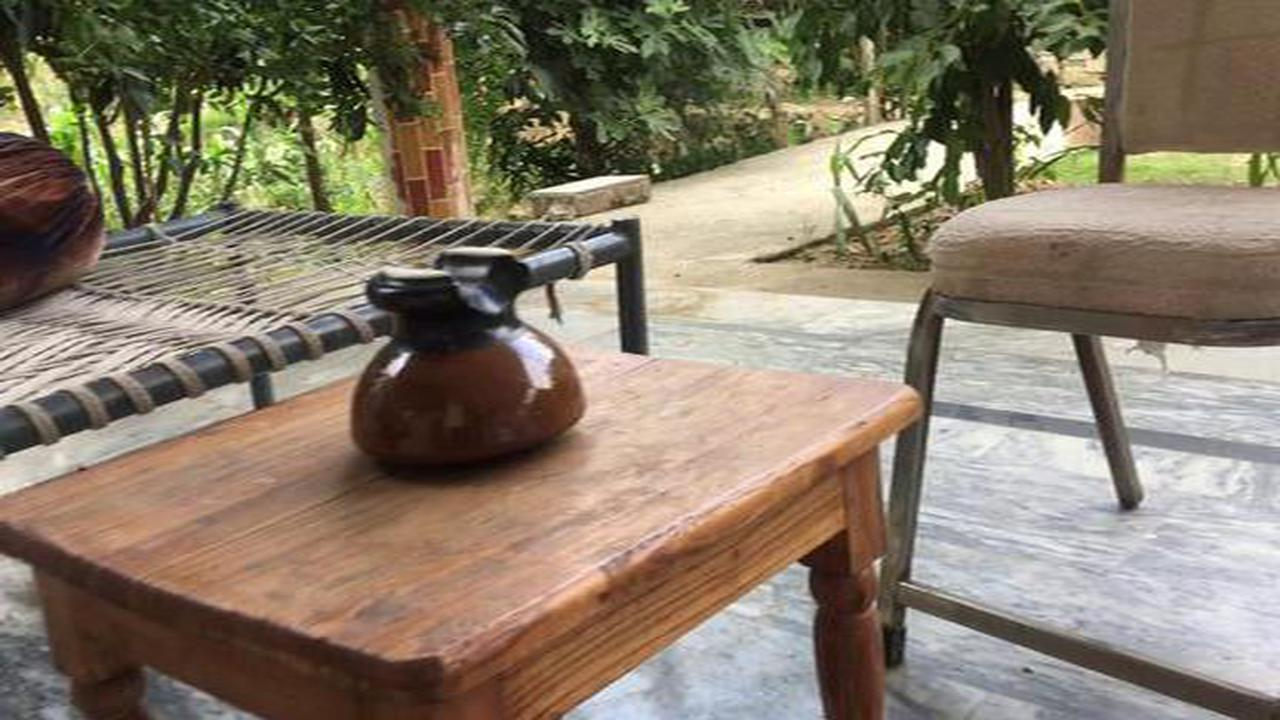insulator_pin: (333, 236, 601, 492)
